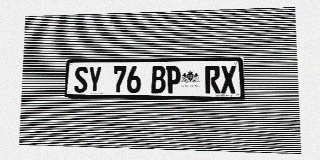6: (127, 66, 141, 93)
7: (112, 66, 126, 93)
B: (151, 66, 165, 93)
P: (166, 66, 181, 93)
R: (205, 65, 220, 94)
S: (74, 66, 88, 93)
X: (220, 65, 236, 94)
Y: (88, 66, 102, 93)
